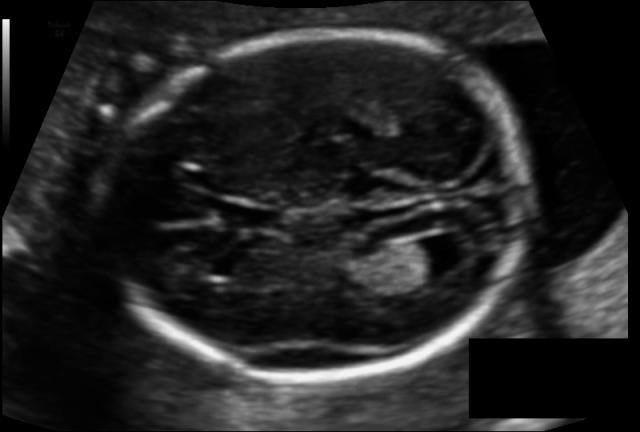CHOROID_PLEXUS: (325, 231, 445, 303)
CSP: (134, 172, 248, 265)
MIDLINE_FALX: (80, 151, 560, 270)
